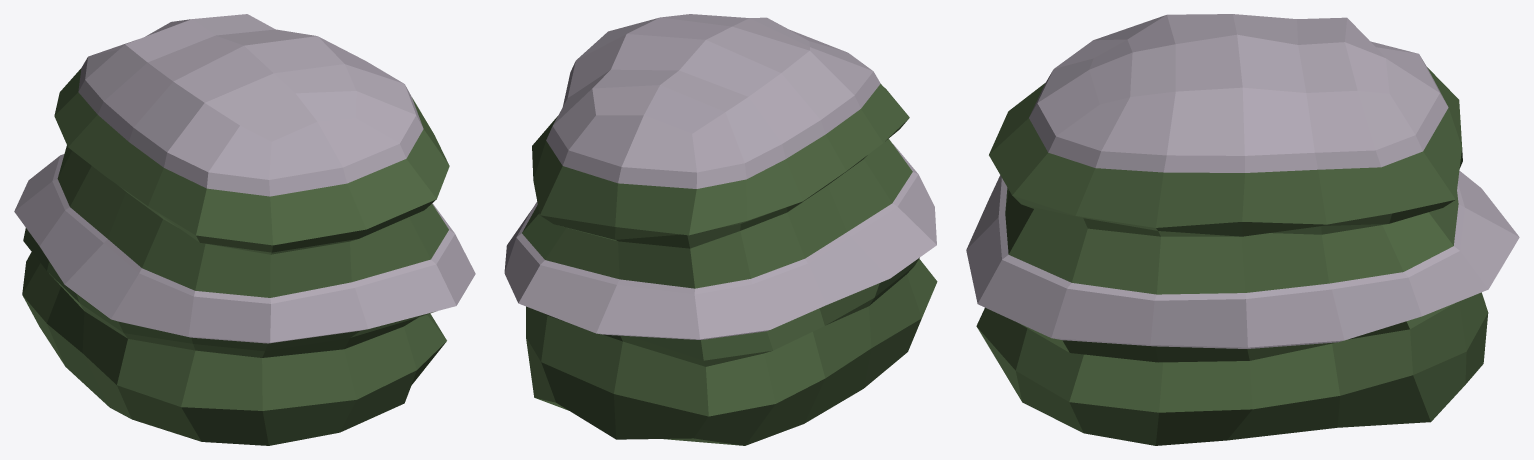
3 views of the same model, side by side, from view 1: azimuth 30°, elevation 25°; view 2: azimuth 150°, elevation 25°; view 3: azimuth 270°, elevation 25° (orthographic). The views are drawn at different scales.
Visible parts, largest first — view 1: Bush_Snow_1; view 2: Bush_Snow_1; view 3: Bush_Snow_1.
Boxes of the visible parts, x1,y1,x2,y2 form: Bush_Snow_1: (14, 14, 475, 445); Bush_Snow_1: (504, 14, 937, 445); Bush_Snow_1: (966, 14, 1519, 445).
Size of the model in its own units: 1.39 by 1.28 by 1.78.
